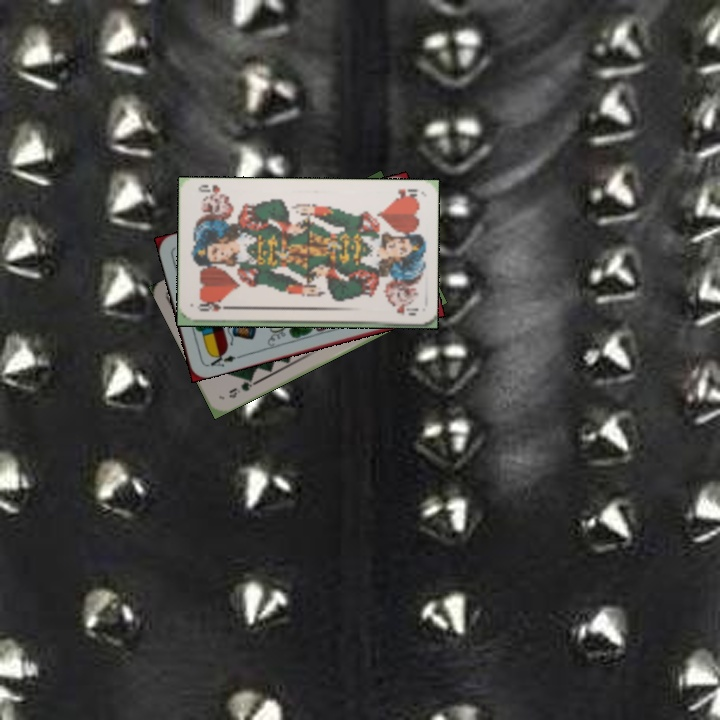EA: (206, 348, 243, 369)
G9: (225, 373, 259, 401)
HO: (388, 184, 420, 202), (195, 301, 233, 314)
